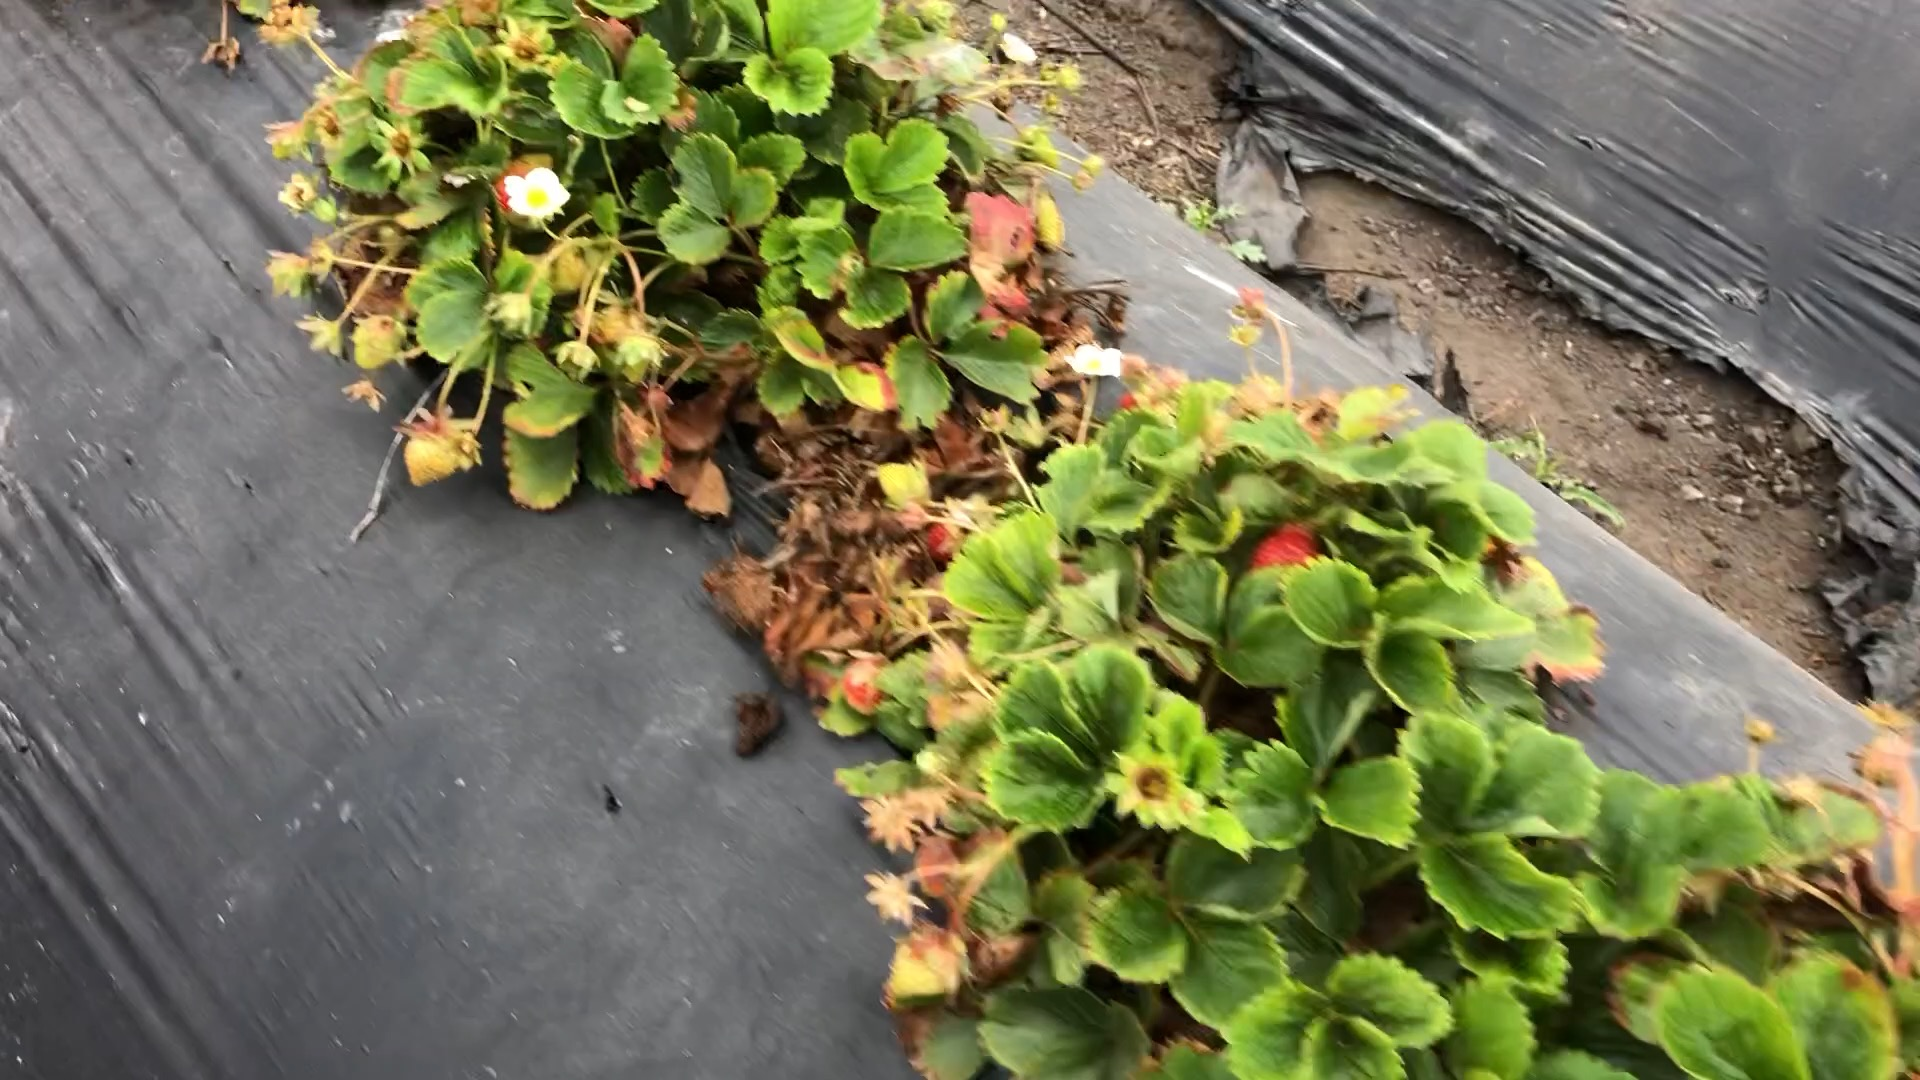ripe_strawberry: (1251, 517, 1317, 578), (926, 520, 963, 567)
unripe_strawberry: (885, 924, 965, 1007), (401, 417, 462, 492), (351, 311, 402, 375), (844, 647, 887, 719), (877, 459, 938, 506)
